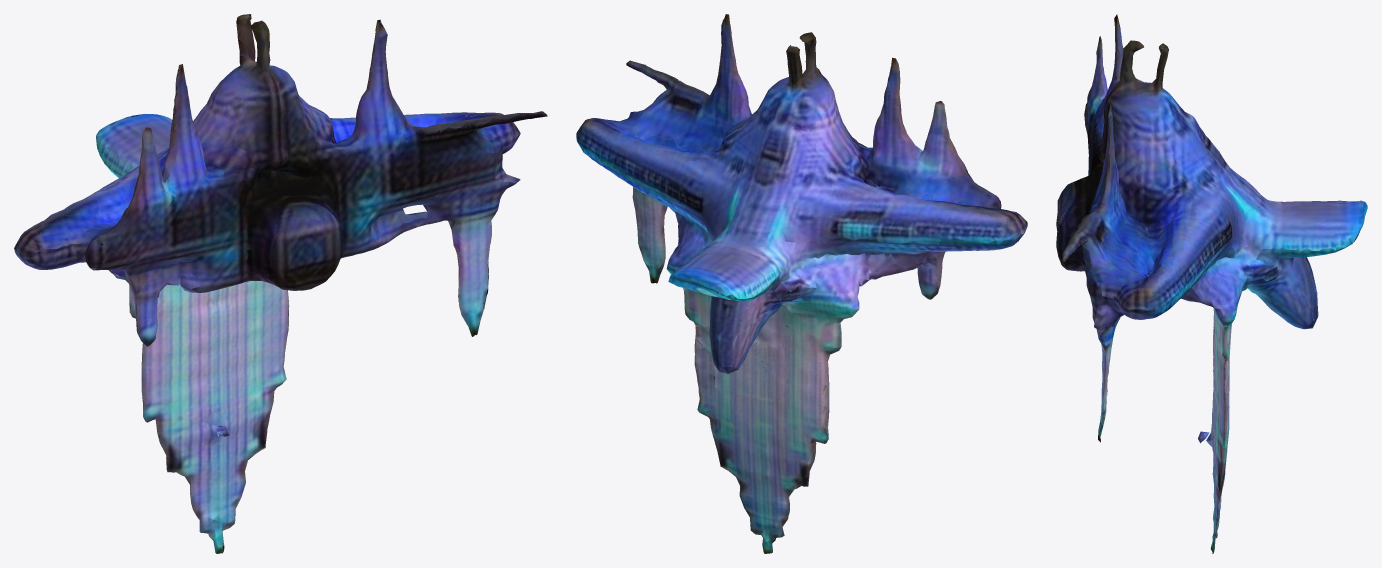
File: SPAR3D_result_20250714_140904.glb
The picture shows the model from 3 angles, left to right: view 1: azimuth 30°, elevation 25°; view 2: azimuth 150°, elevation 25°; view 3: azimuth 270°, elevation 25°; orthographic projection. The views are drawn at different scales.
Visible parts, largest first — view 1: world; view 2: world; view 3: world.
Part boxes in pixels (box(x1,y1,x2,y2)): world: box(14, 14, 547, 553); world: box(576, 14, 1027, 553); world: box(1056, 14, 1367, 553).
Size of the model in its own units: 0.9685 by 1.04 by 0.5755.
1 material, 1 textured.
